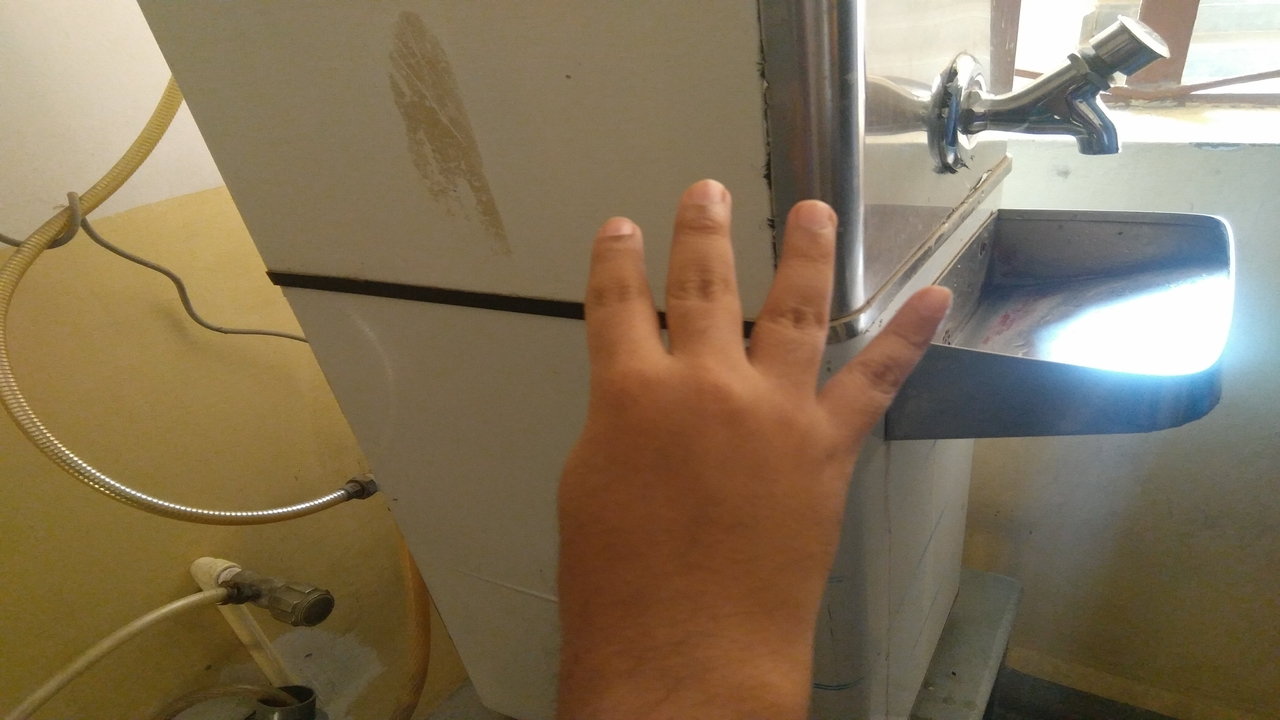fingertip: (664, 174, 740, 230), (900, 280, 962, 334), (586, 206, 648, 258), (780, 192, 836, 242)
